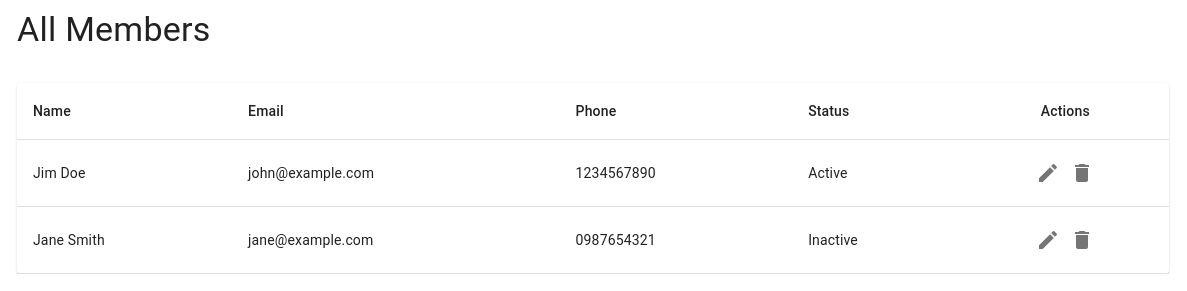
it: ViewAllMembers › deletes member when confirmation is accepted
Click the button named "Delete" in the row of "Jim Doe" at coordinates (1082, 173), box [1065,156,1099,190]
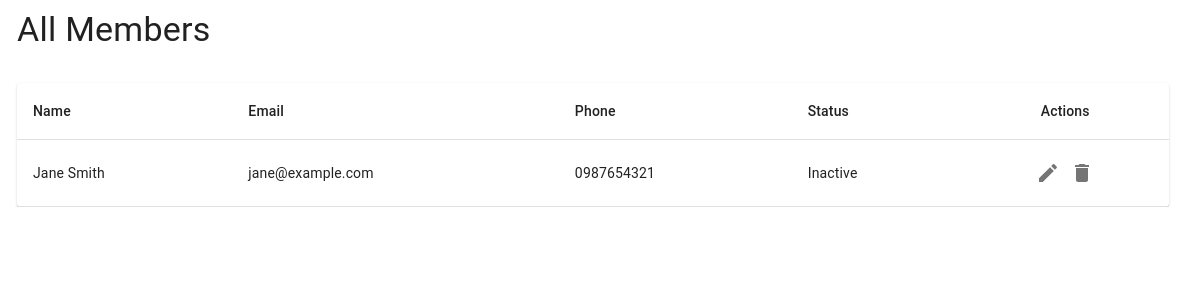
Expected: the number of rows is 2, [17,83,1169,140]; [17,140,1169,206]
